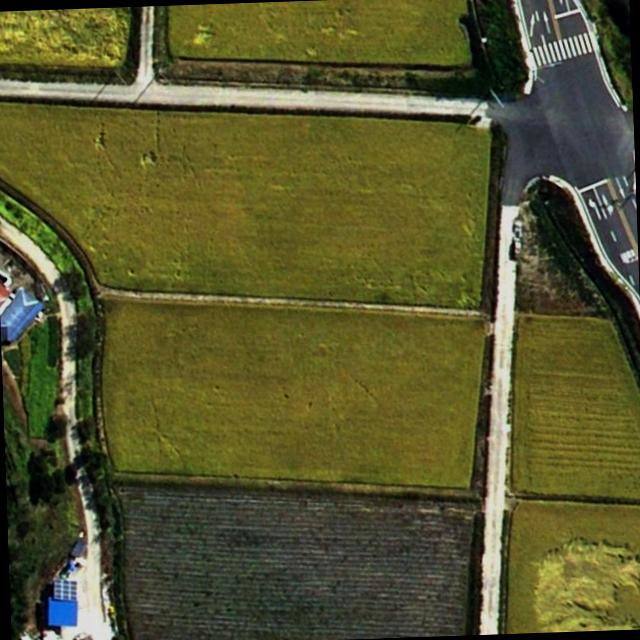solar: (51, 576, 79, 604)
